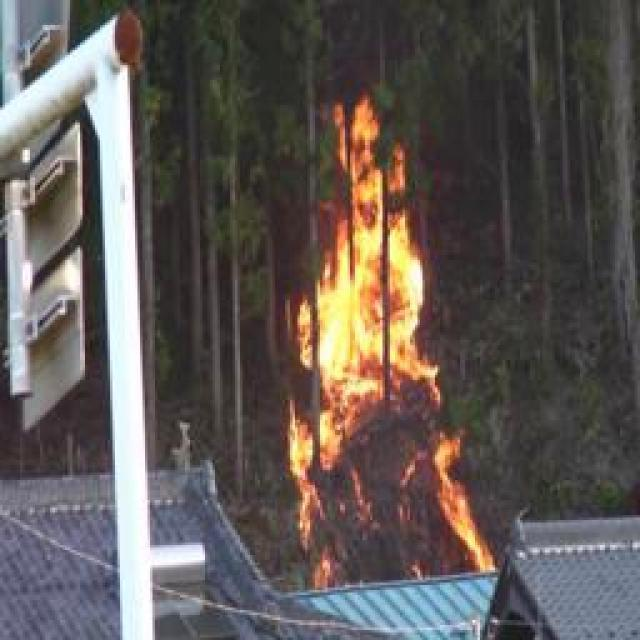Fire: (288, 105, 479, 578)
